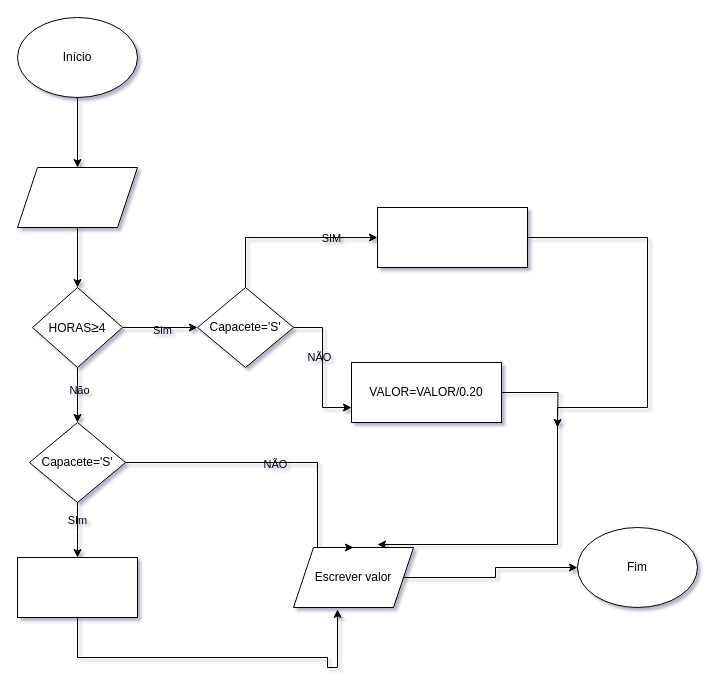
Image size: 721x699. Some labels were removed from this diagram. Each missing label, with the box of its shape:
LER HORAS;VALOR: (16, 166, 138, 228)
VALOR=VALOR+2: (16, 556, 138, 618)
VALOR=VALOR+2/0.20: (376, 206, 528, 268)
